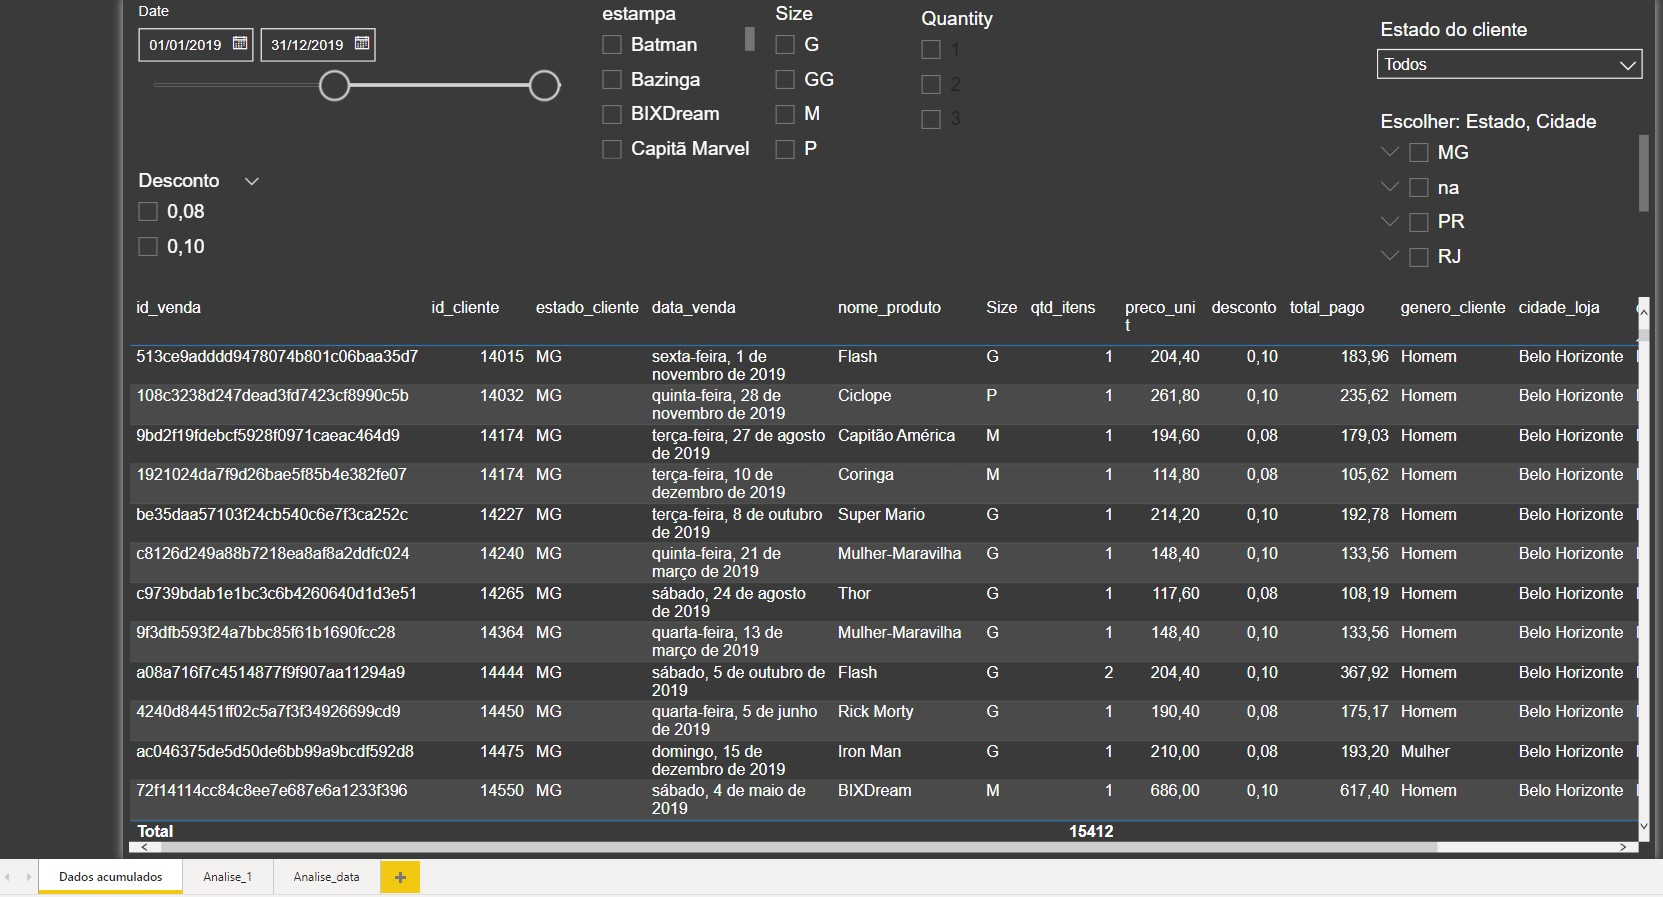

Layout of this report page (visuals, bound fields, positions):
{"tool":"powerbi","page":{"name":"Dados acumulados","canvas":[1280,720],"ordinal":0},"visuals":[{"type":"tableEx","fields":{"Values":["dados_vendas.ID","dados_vendas.ClientID","dados_consumidor.State","dados_vendas.Date","dados_produtos.Name","dados_produtos.Size","Sum(dados_vendas.Quantity)","dados_vendas.UnitPrice","dados_vendas.Discount","dados_vendas.total_paid","dados_consumidor.Sex","dados_lojas.Name"]},"box":[0,245.8,1280,474.4],"z":0},{"type":"slicer","fields":{"Values":["dados_vendas.Date"]},"box":[0,0,387.3,139.7],"z":1000},{"type":"slicer","fields":{"Values":["dados_produtos.Size"]},"box":[532.2,0,88,150.1],"z":2000},{"type":"slicer","fields":{"Values":["dados_produtos.Name"]},"box":[387.3,0,144.9,139.7],"z":3000},{"type":"slicer","fields":{"Values":["dados_vendas.Discount"]},"box":[0,139.7,126.8,87.1],"z":4000},{"type":"slicer","fields":{"Values":["dados_lojas.State","dados_lojas.ID"]},"box":[1037.6,90.6,242.4,144],"z":4001},{"type":"slicer","fields":{"Values":["dados_cliente.State"]},"box":[1037.6,13.5,242.4,66.4],"z":4002},{"type":"slicer","fields":{"Values":["dados_vendas.Quantity"]},"box":[653.8,4.1,174.8,150],"z":4003}]}

Visuals, with their boxes on the page's 1280x720 design canvas (x1, y1, x2, y2). These are canvas units, not pixel positions in the 1663x897 screenshot, which may show the page scaled, cropped or inside an application window:
tableEx - dados_vendas.ID x dados_vendas.ClientID: left=0, top=246, right=1280, bottom=720
slicer - dados_vendas.Date: left=0, top=0, right=387, bottom=140
slicer - dados_produtos.Size: left=532, top=0, right=620, bottom=150
slicer - dados_produtos.Name: left=387, top=0, right=532, bottom=140
slicer - dados_vendas.Discount: left=0, top=140, right=127, bottom=227
slicer - dados_lojas.State x dados_lojas.ID: left=1038, top=91, right=1280, bottom=235
slicer - dados_cliente.State: left=1038, top=14, right=1280, bottom=80
slicer - dados_vendas.Quantity: left=654, top=4, right=829, bottom=154
